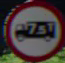Heavy Vehicles: (6, 4, 62, 52)
